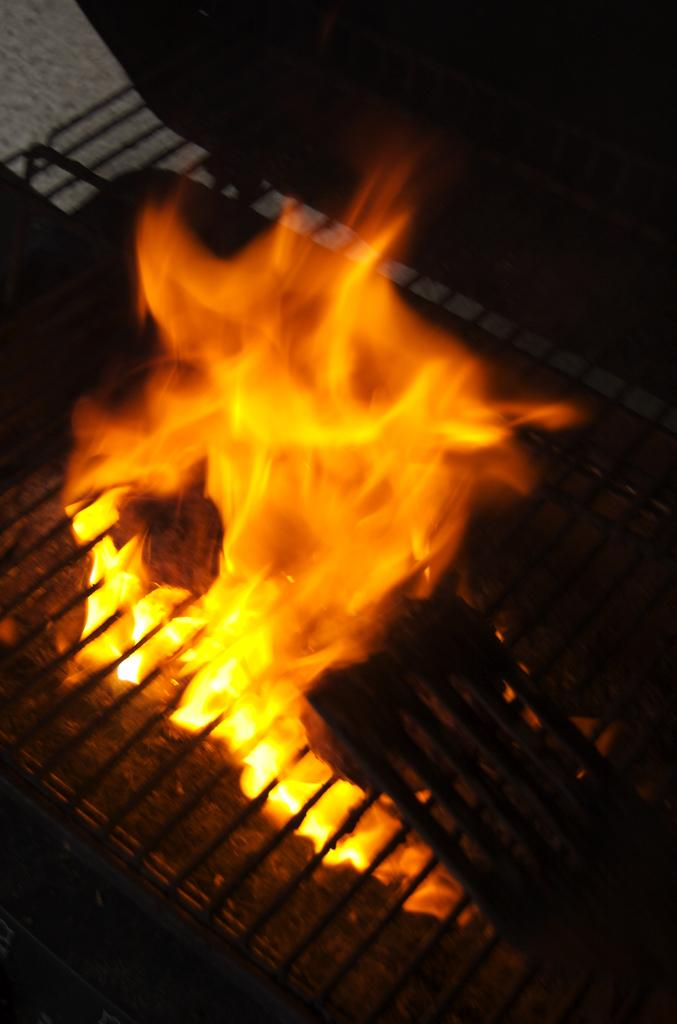fire: (140, 242, 432, 592)
